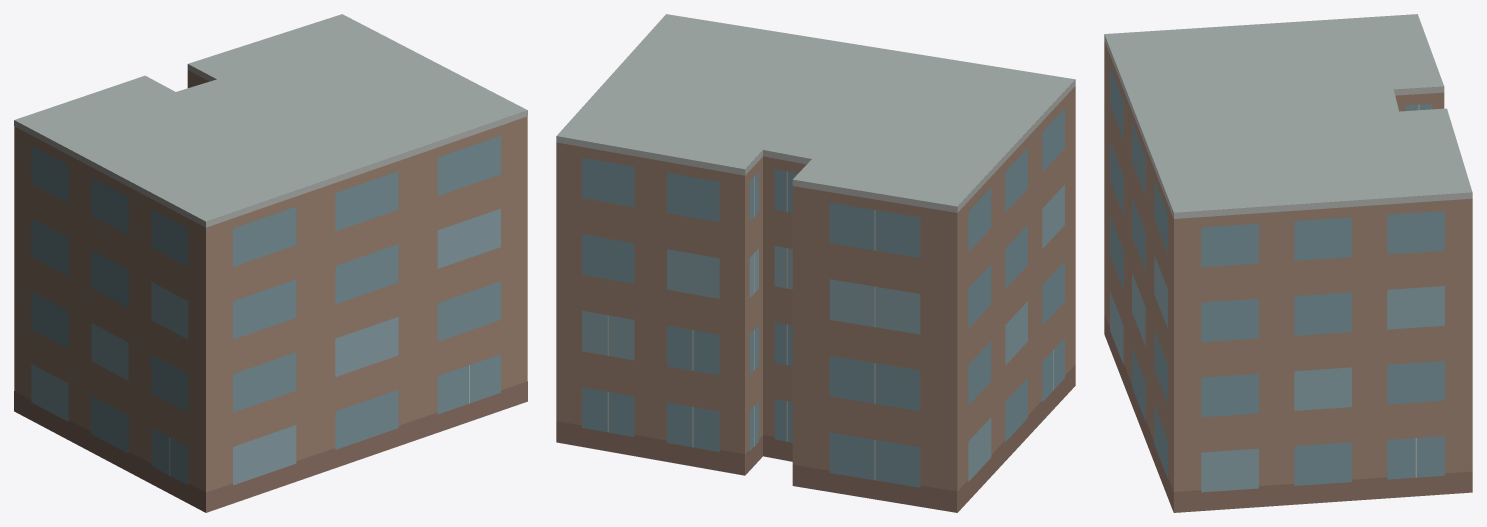
File: survey-upis-32576747.glb
3 renders of one model, left to right at view 1: azimuth 30°, elevation 25°; view 2: azimuth 150°, elevation 25°; view 3: azimuth 270°, elevation 25°, orthographic. The views are drawn at different scales.
Visible parts, largest first — view 1: survey-upis-32576747.tmp; view 2: survey-upis-32576747.tmp; view 3: survey-upis-32576747.tmp.
Boxes of the visible parts, bbox=[...] form: survey-upis-32576747.tmp: bbox=[14, 14, 527, 512]; survey-upis-32576747.tmp: bbox=[556, 14, 1075, 512]; survey-upis-32576747.tmp: bbox=[1104, 14, 1472, 512].
Size of the model in its own units: 16.63 by 11.7 by 13.02.
